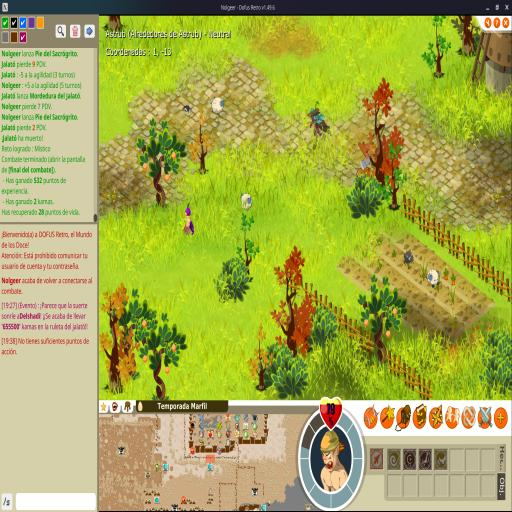Enemigos: (211, 96, 225, 116), (426, 268, 440, 288), (240, 192, 253, 211), (404, 250, 414, 266), (183, 103, 192, 115)
Personaje: (183, 204, 195, 236)
